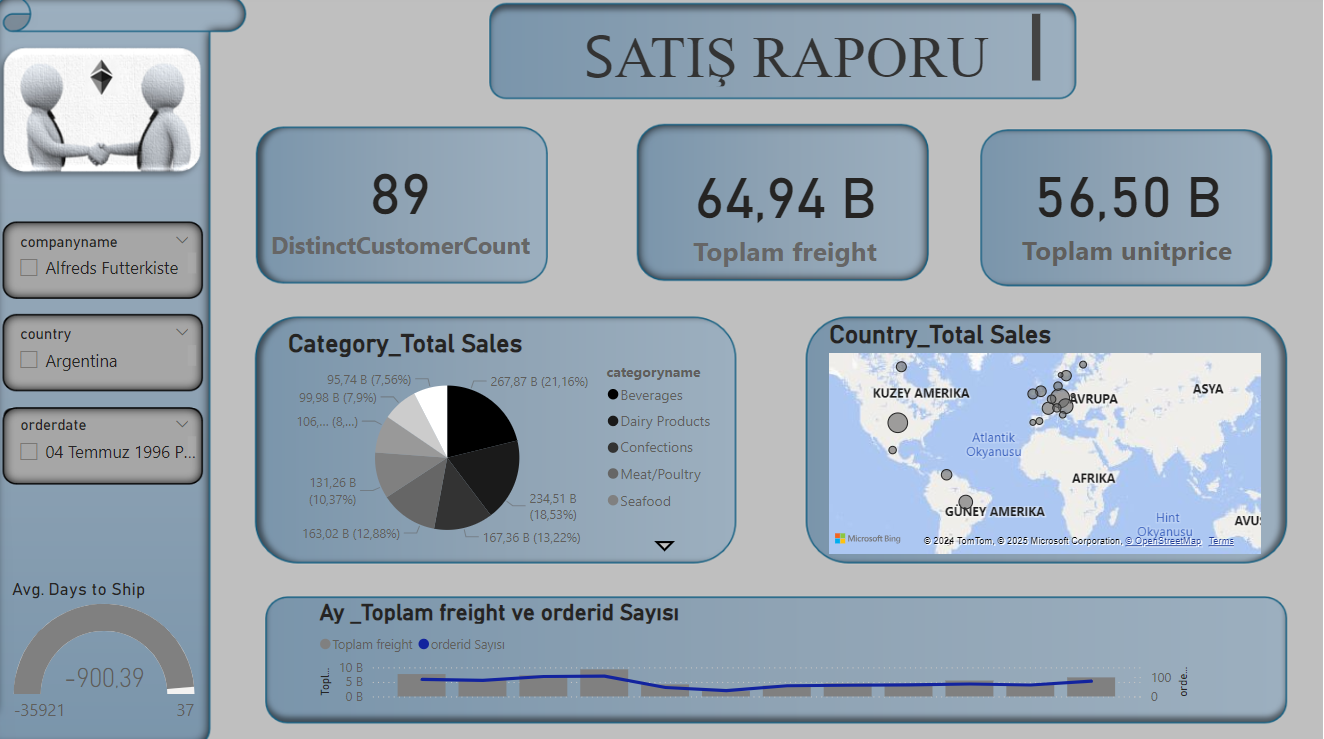

What the dashboard file says about the page in this screenshot:
{"tool":"powerbi","page":{"name":"1. sayfa","canvas":[1280,720],"ordinal":0},"visuals":[{"type":"image","box":[0,0,1280,720.3],"z":0},{"type":"card","fields":{"Values":["categories.DistinctCustomerCount"]},"box":[261.3,130.6,258.9,137.8],"z":1000},{"type":"pieChart","title":"Category_Total Sales","fields":{"Y":["categories.Total Sales"],"Category":["categories.categoryname"]},"box":[278.1,320,424.3,220.5],"z":2000},{"type":"map","title":"Country_Total Sales","fields":{"Size":["categories.Total Sales"],"Category":["customers.country"]},"box":[797,311.6,423.1,228.9],"z":3000},{"type":"textbox","box":[520.1,13.2,489,79.1],"z":4000},{"type":"slicer","fields":{"Values":["customers.companyname"]},"box":[13.2,222.9,187,58.7],"z":5000},{"type":"slicer","fields":{"Values":["customers.country"]},"box":[13.2,311.6,187,63.5],"z":6000},{"type":"slicer","fields":{"Values":["orders.orderdate"]},"box":[13.2,399.1,187,63.5],"z":7000},{"type":"card","fields":{"Values":["Sum(orders.freight)"]},"box":[620.1,126.6,280.2,155],"z":8000},{"type":"lineStackedColumnComboChart","title":"Ay _Toplam freight ve orderid Sayısı","fields":{"Category":["orders.orderdate.Varyasyon.Tarih Hiyerarşisi.Ay"],"Y":["Sum(orders.freight)"],"Y2":["CountNonNull(orders.orderid)"]},"box":[308,578.9,844.9,107.9],"z":9000},{"type":"card","fields":{"Values":["Sum(order_details.unitprice)"]},"box":[976.8,139,221.7,129.4],"z":10000},{"type":"gauge","title":"Avg. Days to Ship","fields":{"Y":["Avg(orders.Days to ship)"],"MinValue":["Min(orders.Days to ship)"],"MaxValue":["Max(orders.Days to ship)"]},"box":[13.2,559.7,187,147.4],"z":11000}]}

Visuals, with their boxes in screenshot pixels (x1, y1, x2, y2), scaled from the page's 1280x720 canvas onto the 1324x739 screenshot:
image: region(0, 0, 1323, 738)
card - categories.DistinctCustomerCount: region(270, 134, 538, 275)
"Category_Total Sales" pieChart: region(288, 328, 727, 555)
"Country_Total Sales" map: region(824, 320, 1262, 555)
textbox: region(538, 14, 1044, 95)
slicer - customers.companyname: region(14, 229, 207, 289)
slicer - customers.country: region(14, 320, 207, 385)
slicer - orders.orderdate: region(14, 410, 207, 475)
card - Sum(orders.freight): region(641, 130, 931, 289)
"Ay _Toplam freight ve orderid Sayısı" lineStackedColumnComboChart: region(319, 594, 1193, 705)
card - Sum(order_details.unitprice): region(1010, 143, 1240, 275)
"Avg. Days to Ship" gauge: region(14, 574, 207, 726)
